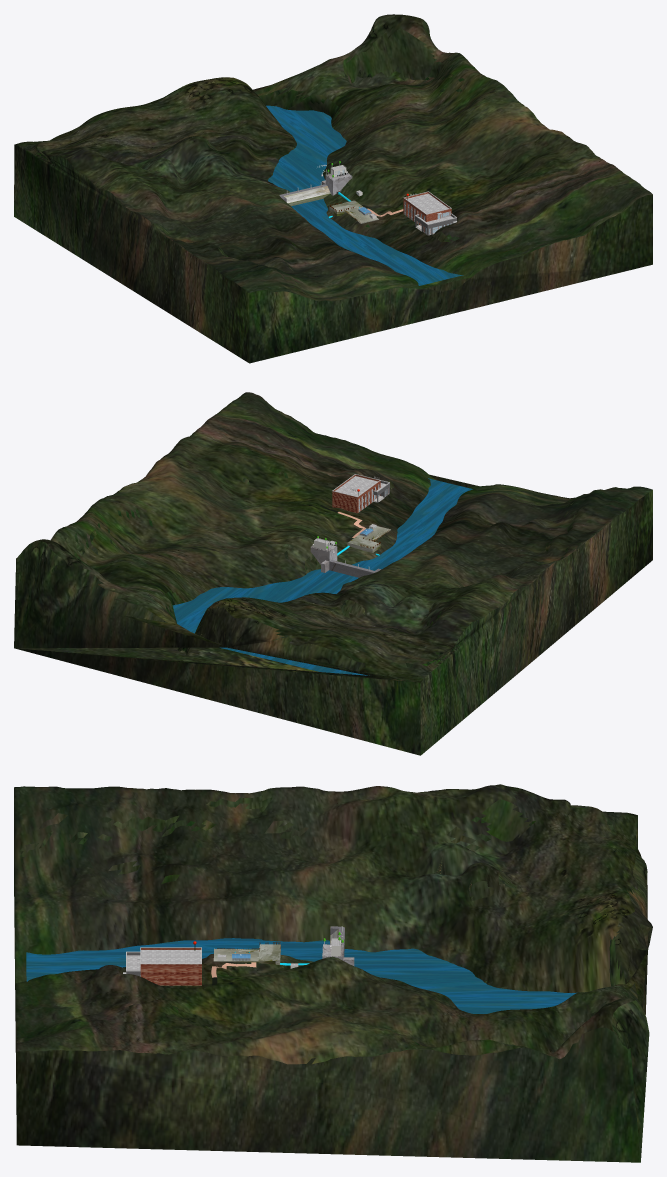
3 views of the same model, one above another, from view 1: azimuth 30°, elevation 25°; view 2: azimuth 150°, elevation 25°; view 3: azimuth 270°, elevation 25° (orthographic). The views are drawn at different scales.
Parts seen in each view (by area): view 1: Landscape, Landscape_plane, 办公楼03.001; view 2: Landscape, Landscape_plane, 办公楼03.001; view 3: Landscape, Landscape_plane, 办公楼03.001.
Boxes of the visible parts, x1=… form: Landscape: x1=14, y1=14, x2=652, y2=363; Landscape_plane: x1=266, y1=105, x2=463, y2=285; 办公楼03.001: x1=403, y1=191, x2=456, y2=235; Landscape: x1=14, y1=392, x2=652, y2=755; Landscape_plane: x1=172, y1=478, x2=472, y2=675; 办公楼03.001: x1=332, y1=474, x2=389, y2=513; Landscape: x1=14, y1=784, x2=652, y2=1162; Landscape_plane: x1=26, y1=938, x2=576, y2=1013; 办公楼03.001: x1=123, y1=947, x2=201, y2=985.
Bounding box in the file's own units: 47.99 × 12.99 × 48.83.
Materials: 86 (26 with a texture image).
